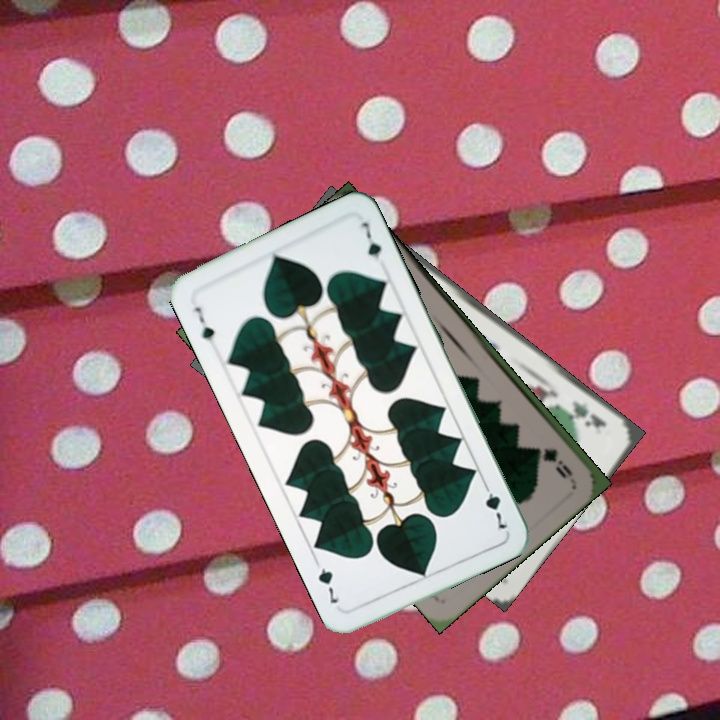G7: (478, 477, 511, 532), (190, 303, 218, 351)
G9: (539, 443, 576, 480)
GK: (558, 397, 609, 431)
